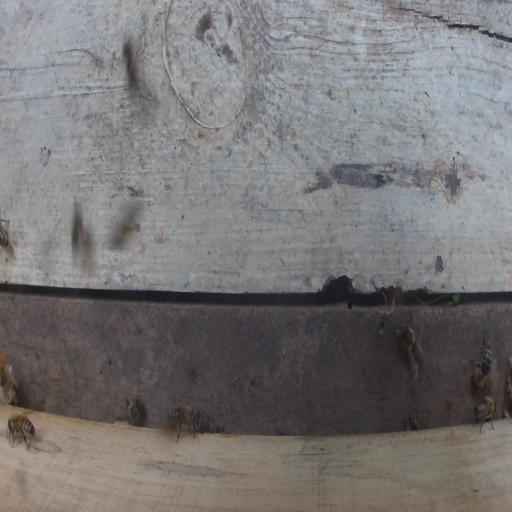bee: (392, 311, 424, 380), (469, 334, 492, 390), (168, 404, 201, 443), (6, 412, 36, 451), (473, 395, 498, 435), (0, 356, 18, 403), (125, 396, 143, 426), (200, 416, 224, 434), (0, 217, 10, 249)
